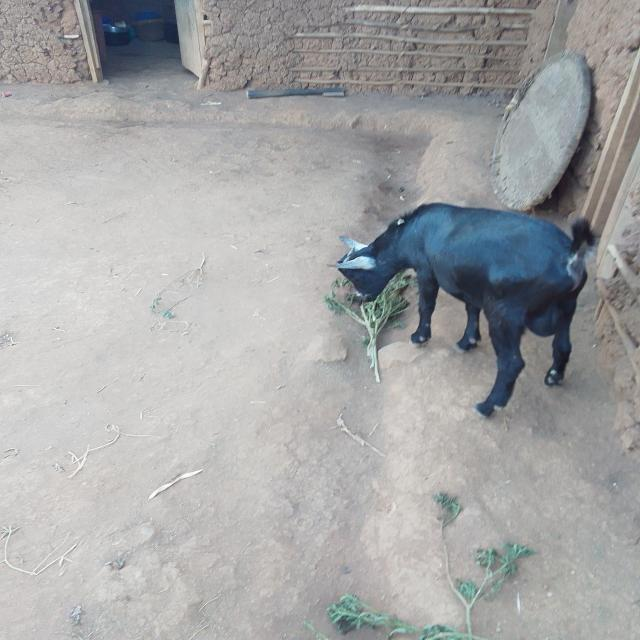goat: (291, 181, 628, 462)
